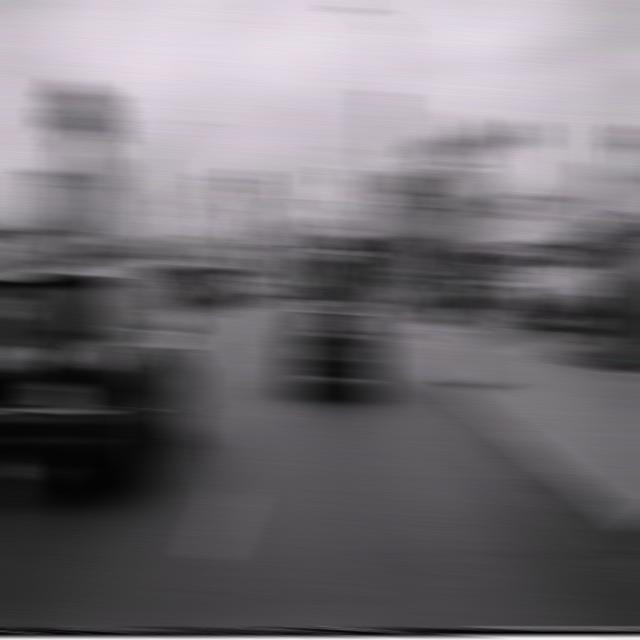speedLimit30: (376, 198, 409, 229)
